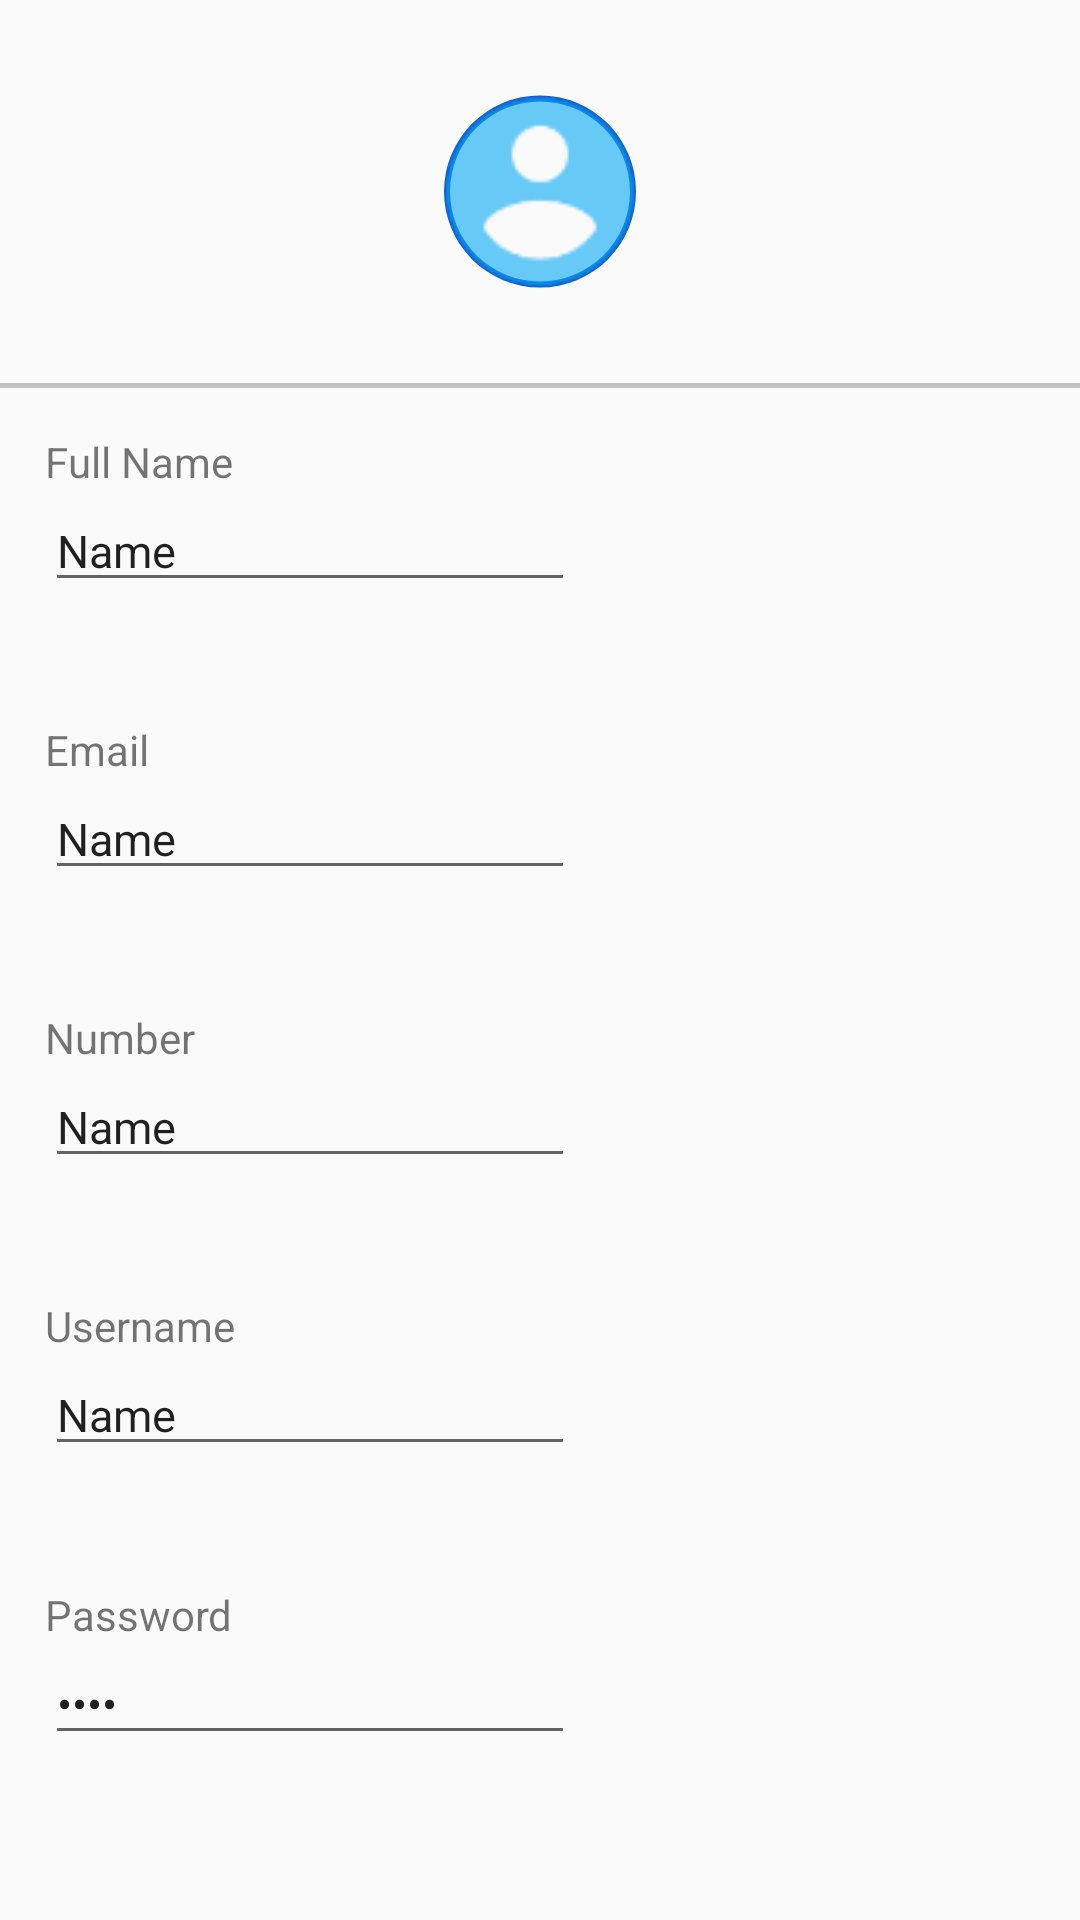

Where icons sit on this 1080×1920 app screen, as (x1, y1, x2, y2):
user profile: (444, 95, 636, 288)
